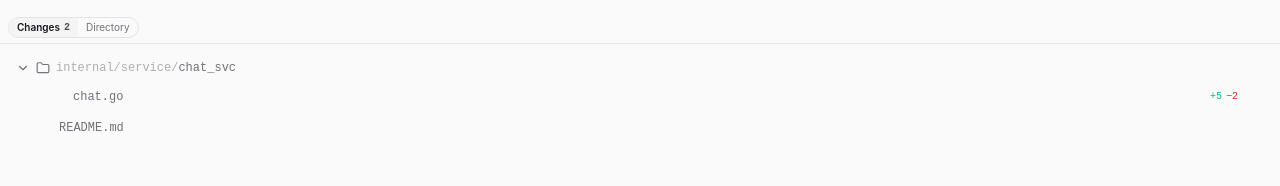
Scenario: FilesPanel directory search › (e) notes truncation with the actual number of returned hits
Click the tab "Directory" at (108, 28), box top-left (78, 18), bottom-right (138, 37)
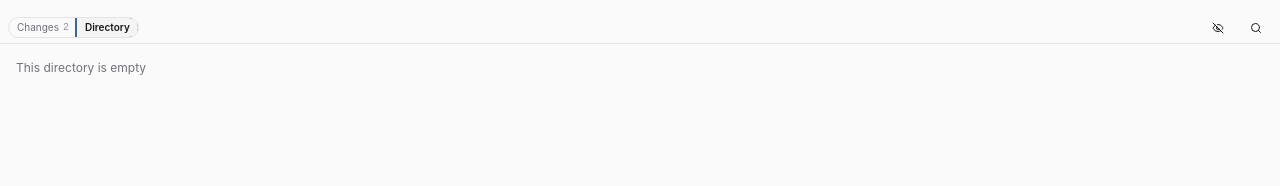
Click the button named "search" at (1256, 28), box top-left (1240, 16), bottom-right (1272, 40)
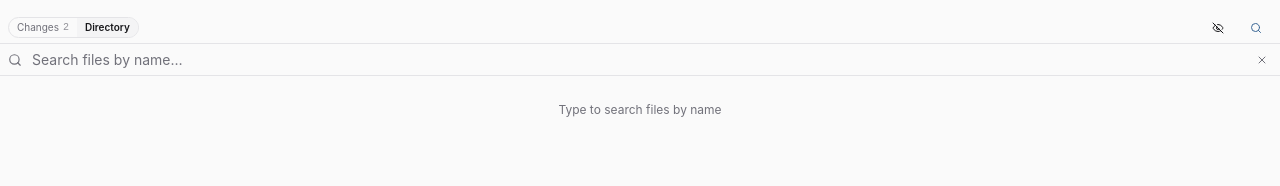
Type "go" into the field labelled "Search files by name…" at (637, 60), box top-left (28, 48), bottom-right (1246, 72)
Wait 300 ms
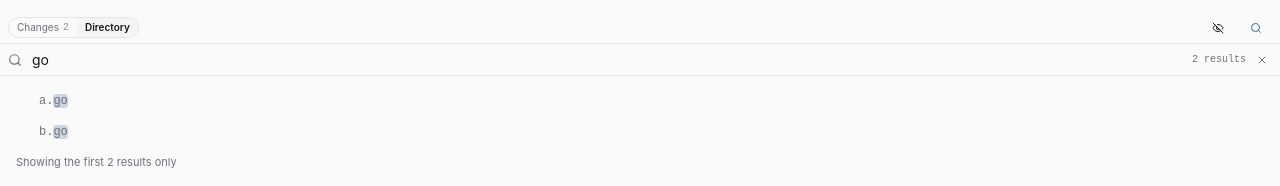
Now the text "Showing the first 2 results only" is shown, box top-left (16, 155), bottom-right (177, 169)
